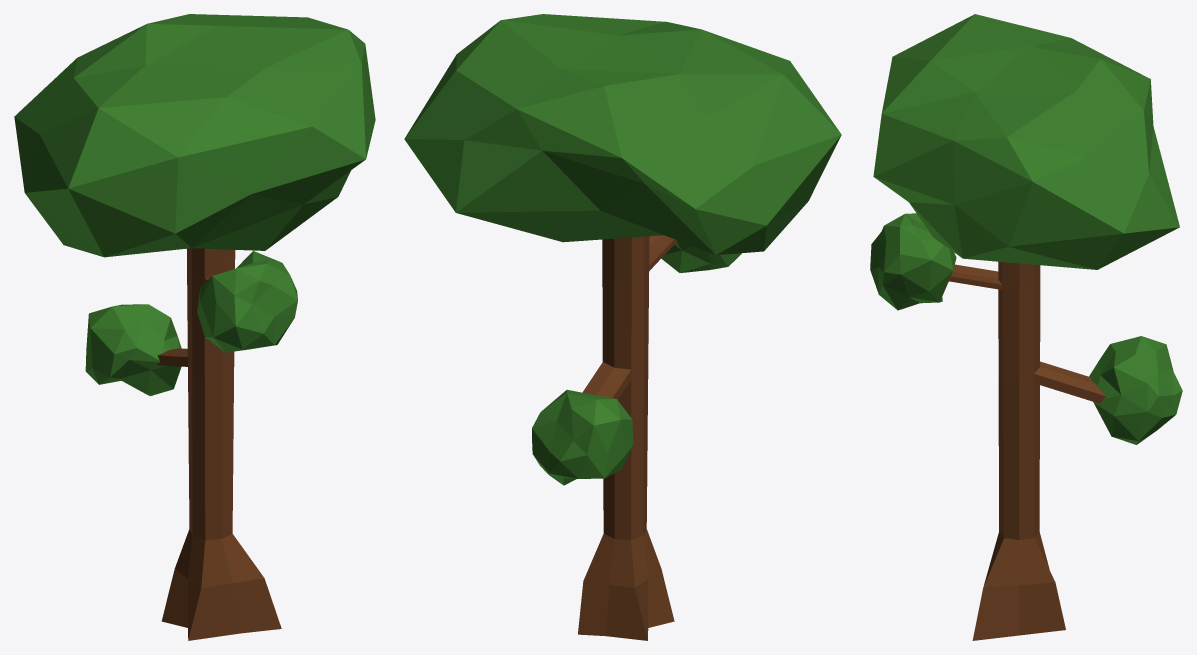
Rendered from tree5.fbx.
3 views of the same model, side by side, from view 1: azimuth 30°, elevation 25°; view 2: azimuth 150°, elevation 25°; view 3: azimuth 270°, elevation 25° (orthographic). The views are drawn at different scales.
Visible parts, largest first — view 1: Cube; view 2: Cube; view 3: Cube.
Part boxes in pixels (x1,y1,x2,y2): Cube: (14, 14, 375, 640); Cube: (404, 14, 841, 640); Cube: (870, 14, 1182, 640).
Size of the model in its own units: 12224 by 19331 by 9960.
